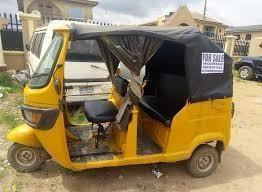keke: (2, 24, 238, 179)
